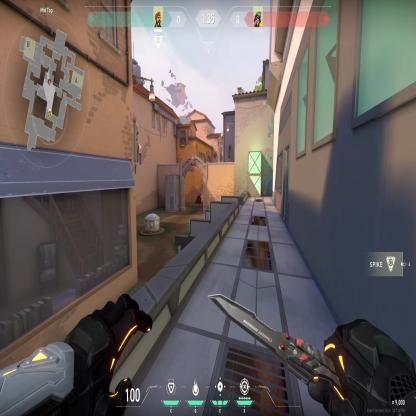enemy: (200, 192, 203, 211)
